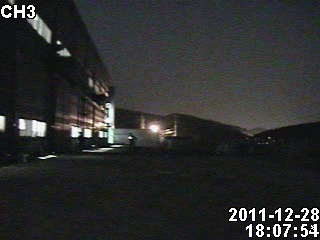fire: (149, 122, 163, 137)
